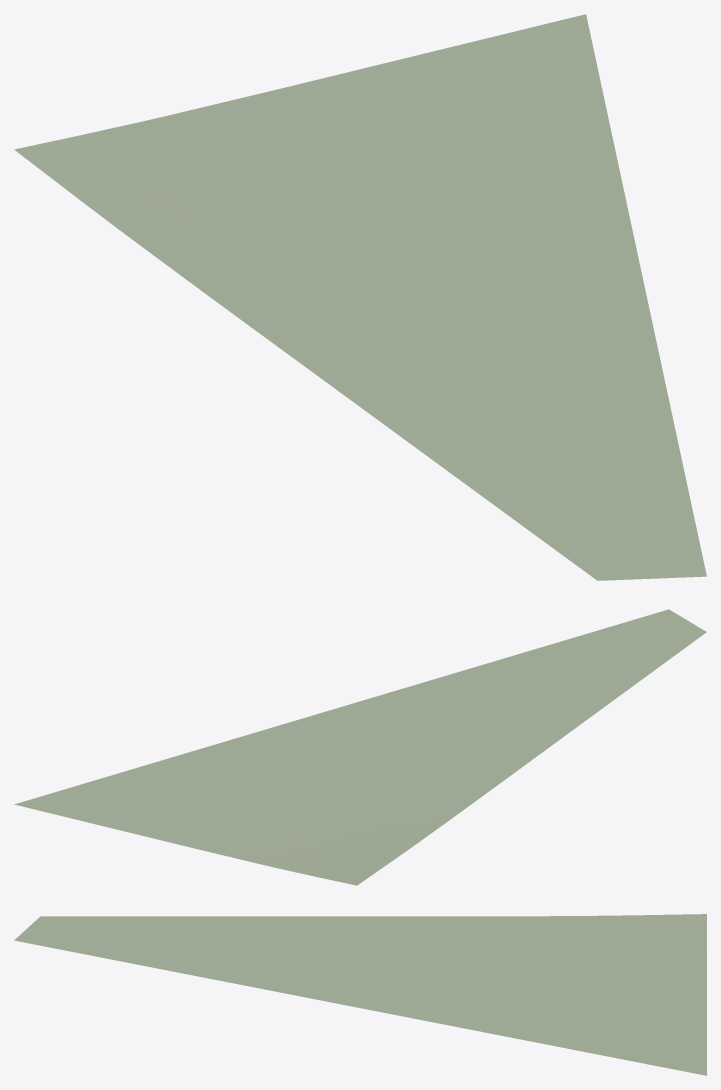
Rendered from SM_MPRR_Terrain_2_-5.fbx.
3 renders of one model, top to bottom at view 1: azimuth 30°, elevation 25°; view 2: azimuth 150°, elevation 25°; view 3: azimuth 270°, elevation 25°, orthographic. The views are drawn at different scales.
Visible parts, largest first — view 1: SM_MPRR_Terrain_2_-5; view 2: SM_MPRR_Terrain_2_-5; view 3: SM_MPRR_Terrain_2_-5.
Boxes of the visible parts, x1,y1,x2,y2 form: SM_MPRR_Terrain_2_-5: (14, 14, 706, 580); SM_MPRR_Terrain_2_-5: (14, 609, 706, 885); SM_MPRR_Terrain_2_-5: (14, 914, 706, 1075).
Bounding box in the file's own units: 5944 × 10915 × 41.72.
